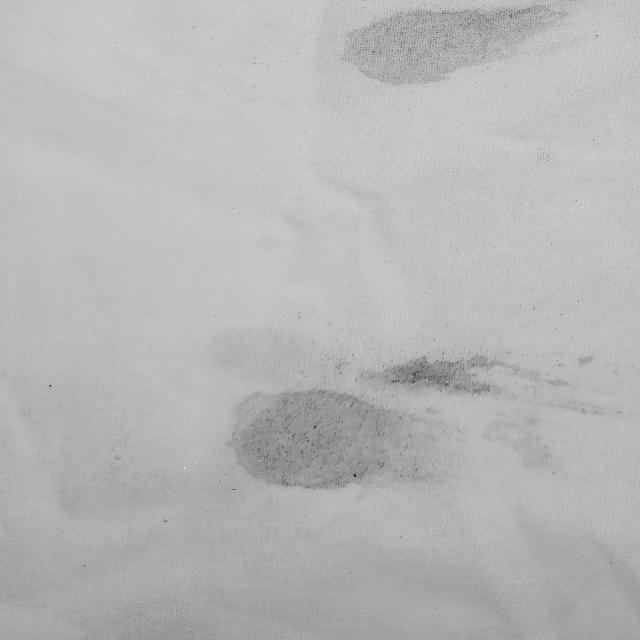Stain: (225, 386, 469, 491), (346, 4, 577, 85), (359, 354, 622, 417), (484, 421, 549, 469), (579, 355, 595, 366)
